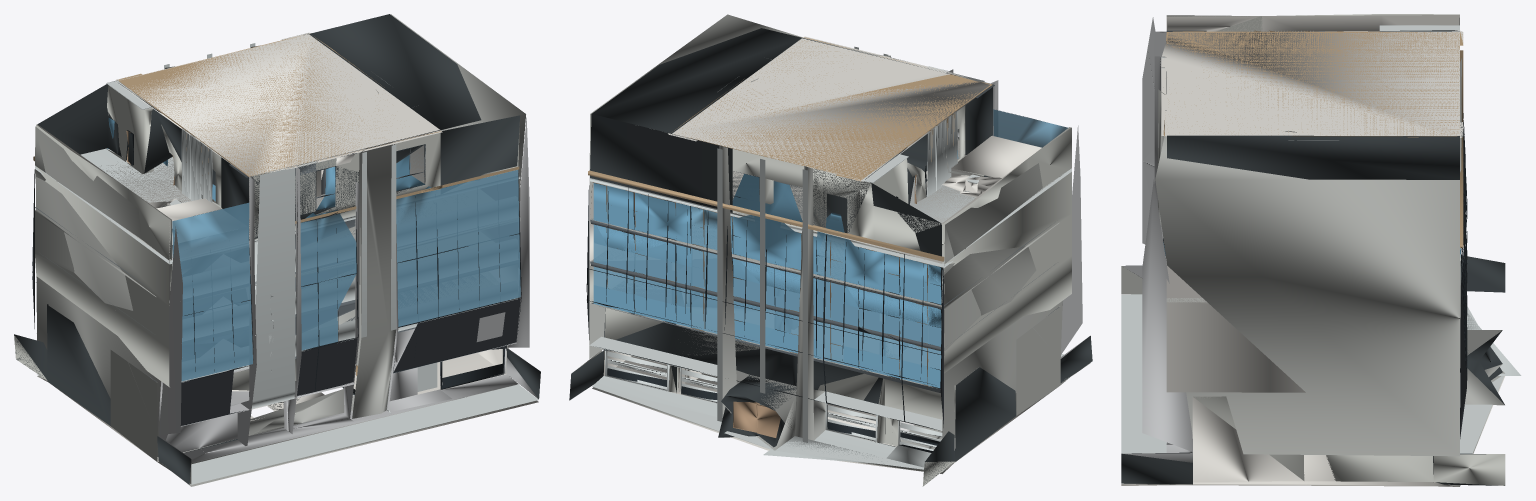
File: ground-building-facade-v18.glb
3 views of the same model, side by side, from view 1: azimuth 30°, elevation 25°; view 2: azimuth 150°, elevation 25°; view 3: azimuth 270°, elevation 25° (orthographic). The views are drawn at different scales.
Visible parts, largest first — view 1: object 1; view 2: object 1; view 3: object 1.
Part boxes in pixels (bbox=[...]): object 1: bbox=[14, 14, 540, 486]; object 1: bbox=[569, 14, 1092, 486]; object 1: bbox=[1121, 14, 1521, 486].
Bounding box in the file's own units: 26.37 × 20.3 × 22.93.
